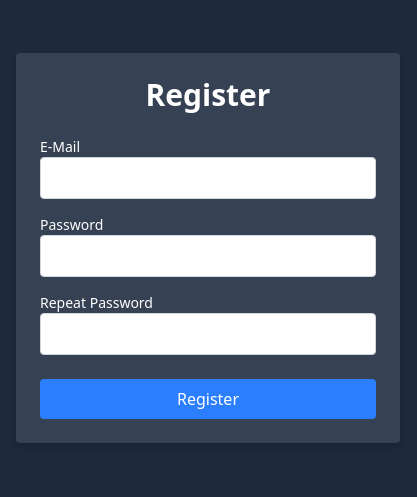
Test case: Register Component › handles API fetch error
Note: Fill form
In the field labelled "E-Mail": (208, 178) 40,157 -> 376,199, type "test@example.com"
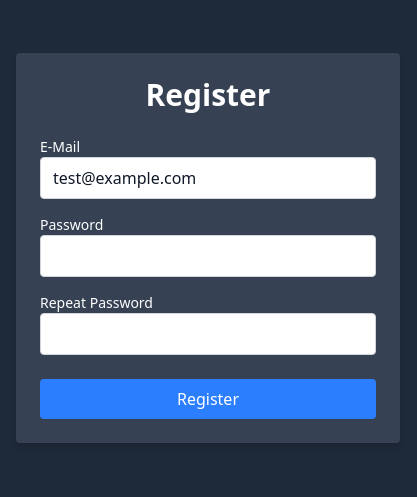
In the password field labelled "Password": (208, 256) 40,235 -> 376,277, type "password123"
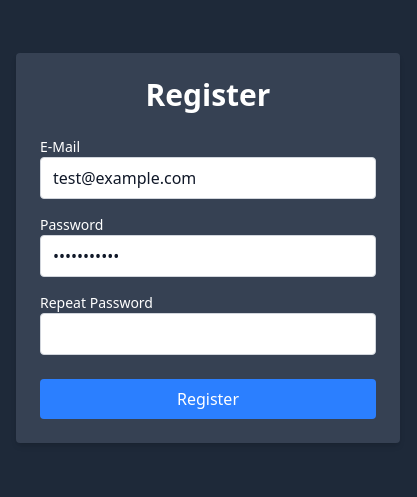
In the password field labelled "Repeat Password": (208, 334) 40,313 -> 376,355, type "password123"
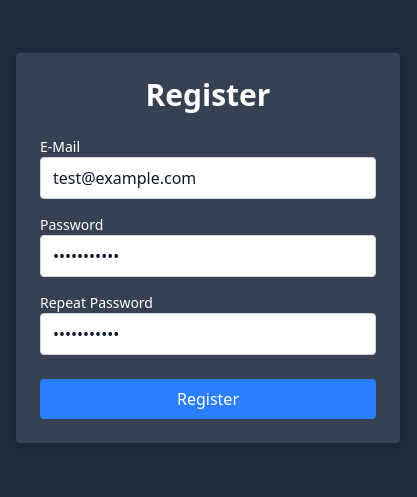
Note: Submit form
Click the button "Register": (208, 399) 40,379 -> 376,419
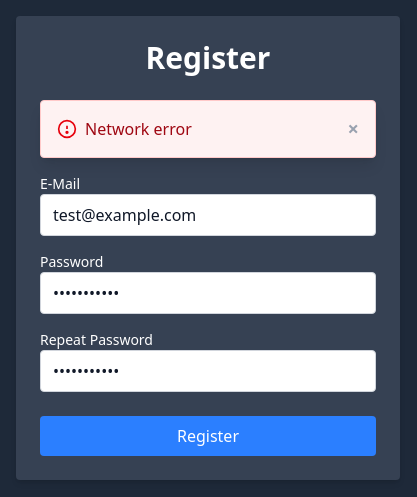
Result: the text "Network error" is shown at 85,118 -> 192,140
